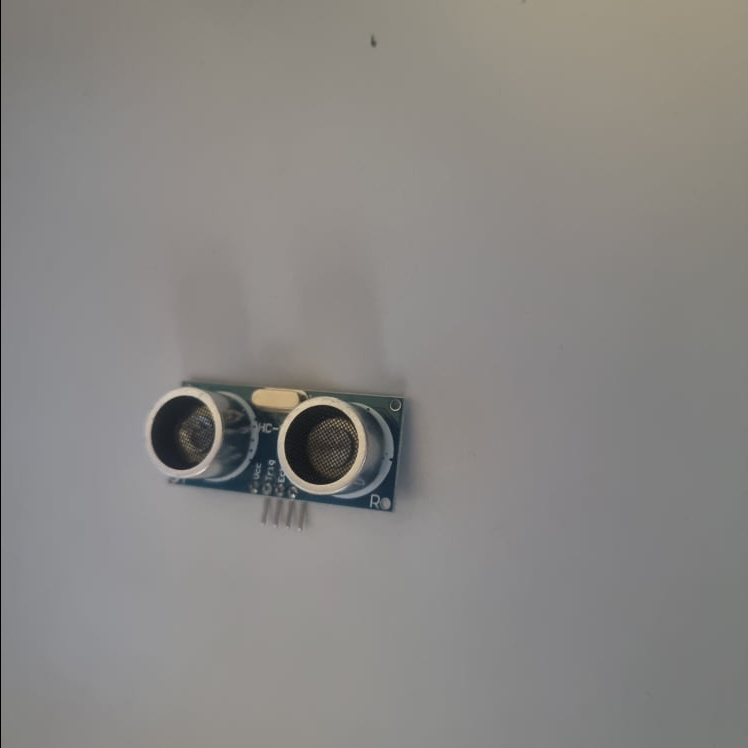SENSOR: (141, 377, 405, 517)
